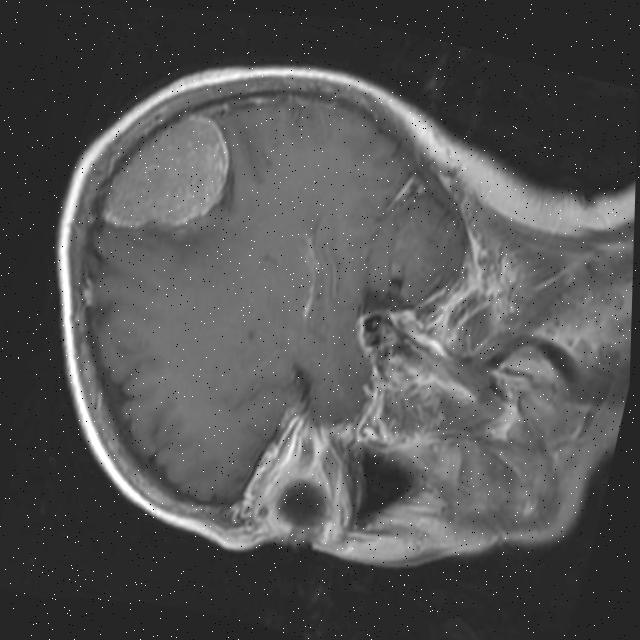Meningioma: (93, 90, 242, 253)
